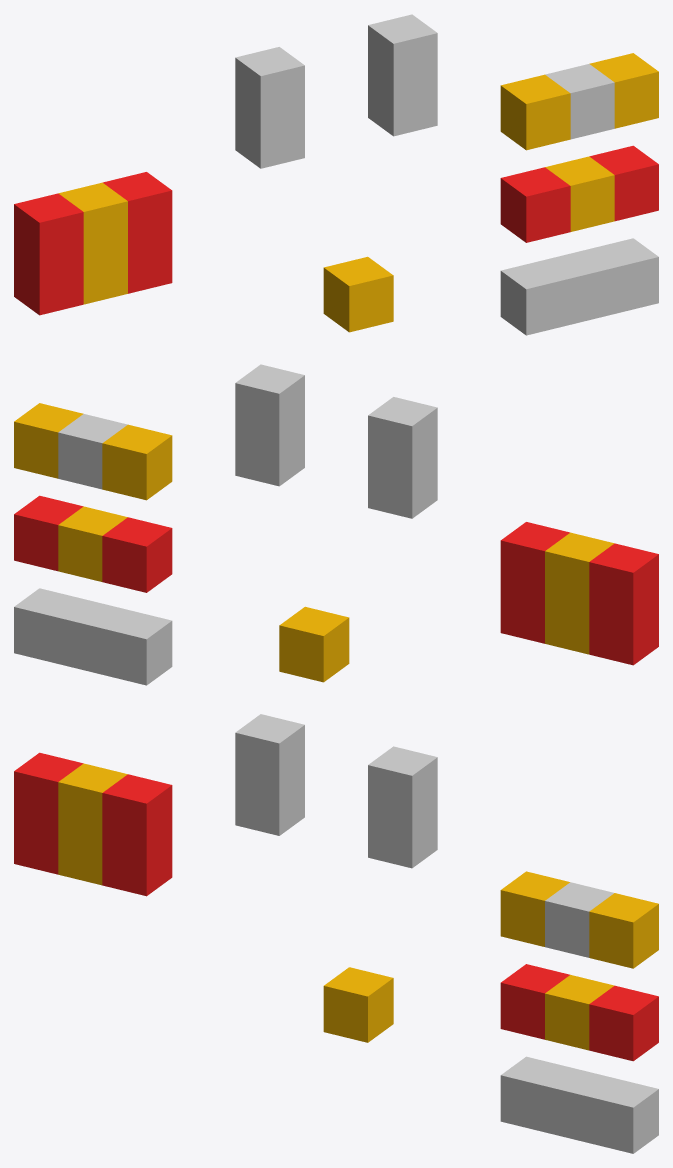
3 renders of one model, top to bottom at view 1: azimuth 30°, elevation 25°; view 2: azimuth 150°, elevation 25°; view 3: azimuth 330°, elevation 25°, orthographic.
Parts seen in each view (by area): view 1: 8.1; view 2: 8.1; view 3: 8.1.
Part boxes in pixels (left/top/right/bottom): 8.1: left=14, top=14, right=658, bottom=335; 8.1: left=14, top=364, right=658, bottom=685; 8.1: left=14, top=714, right=658, bottom=1153.
Bounding box in the file's own units: 140 × 70 × 10.
1 material, 1 textured.
